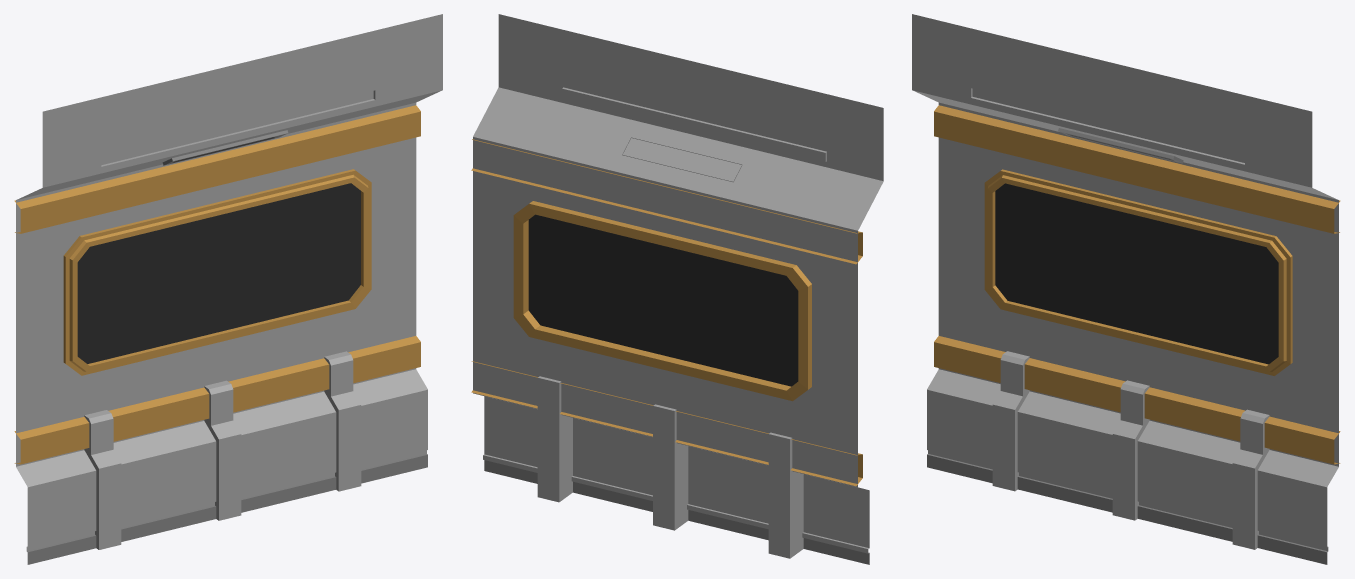
The model's file is Window_Wall_SideB.fbx.
3 views of the same model, side by side, from view 1: azimuth 30°, elevation 25°; view 2: azimuth 150°, elevation 25°; view 3: azimuth 330°, elevation 25° (orthographic). The views are drawn at different scales.
Parts seen in each view (by area): view 1: Window_Wall_SideB; view 2: Window_Wall_SideB; view 3: Window_Wall_SideB.
Boxes of the visible parts, box(x1,y1,x2,y2) form: Window_Wall_SideB: box(14, 14, 442, 564); Window_Wall_SideB: box(471, 14, 883, 564); Window_Wall_SideB: box(912, 14, 1340, 564).
Bounding box in the file's own units: 4 × 4.43 × 0.5355.
